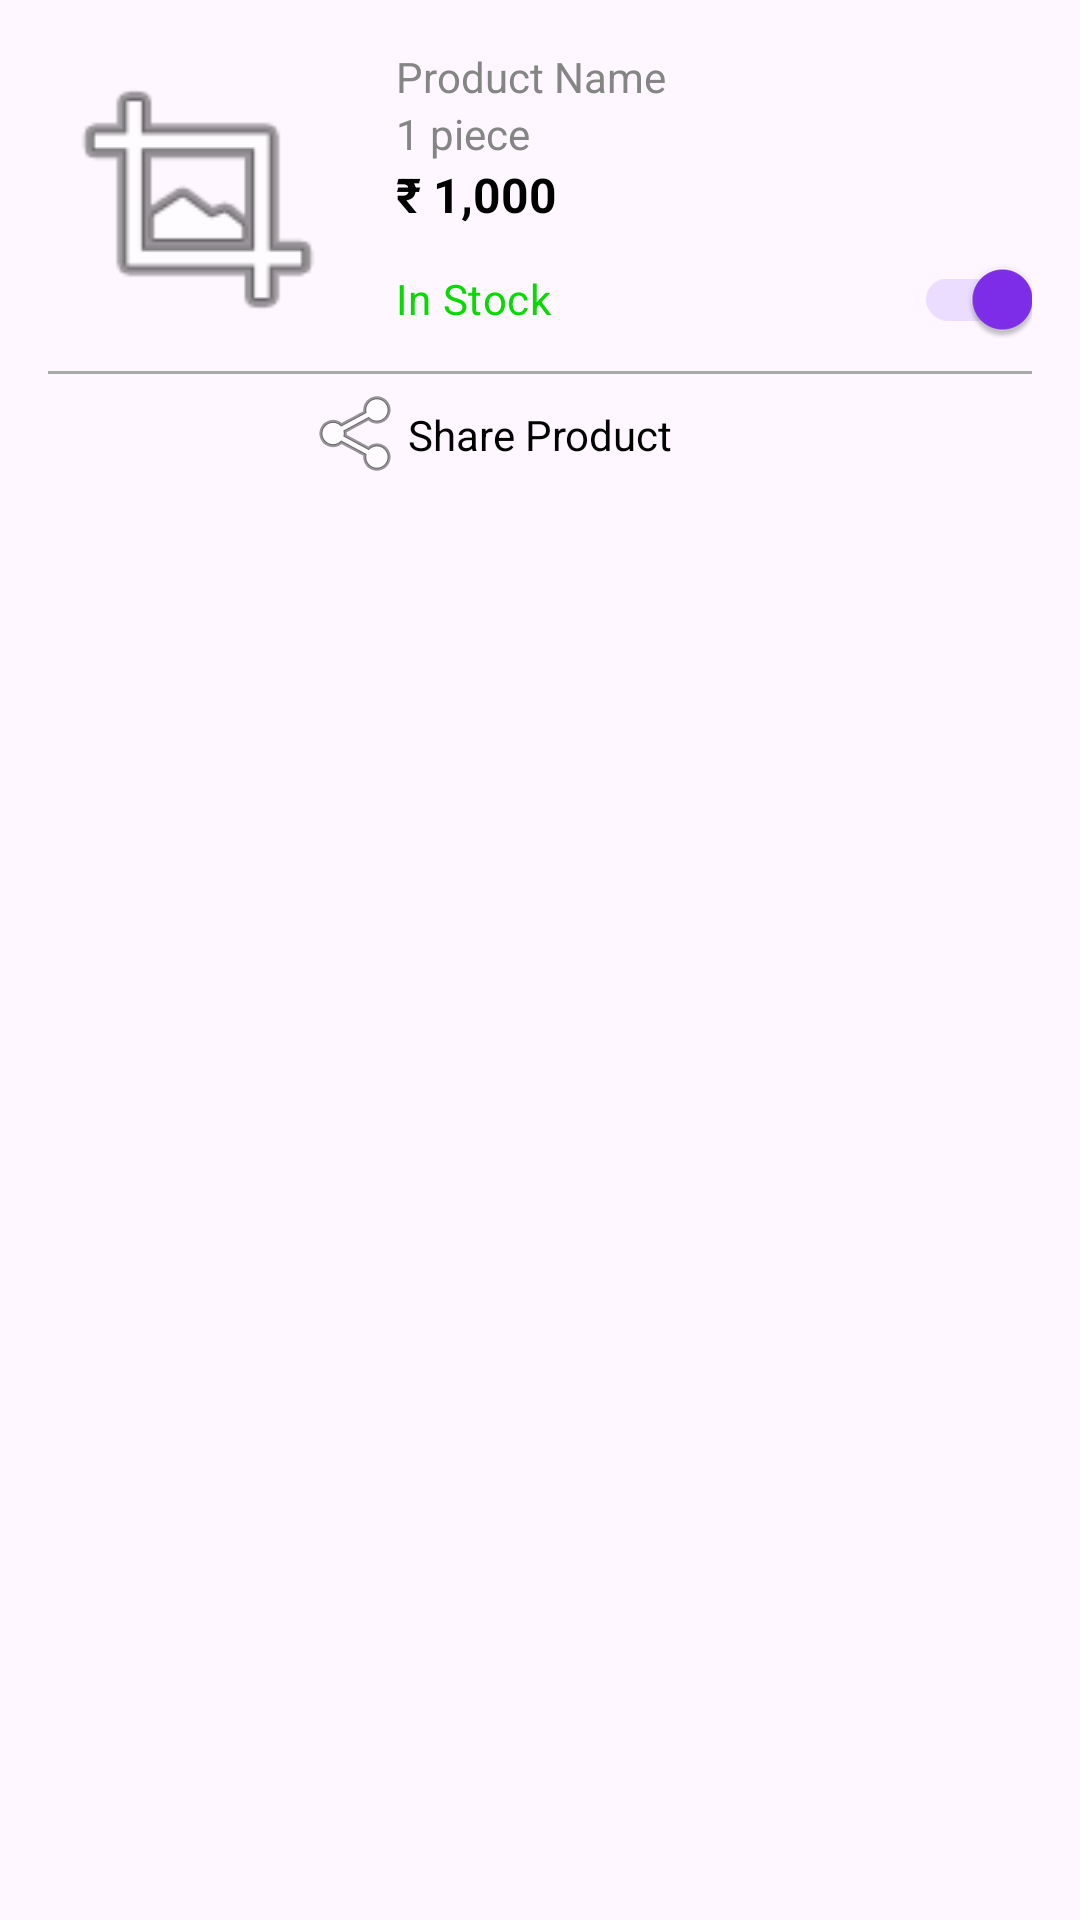

Icon click points for this 1080×1920 phone screenshot, format (x,y):
crop: (198,199)
